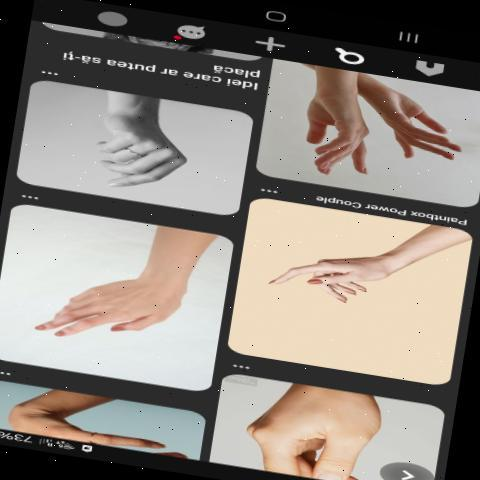Hands: (15, 217, 191, 380), (53, 93, 199, 211), (343, 75, 473, 192), (246, 245, 414, 333), (281, 75, 382, 191)
